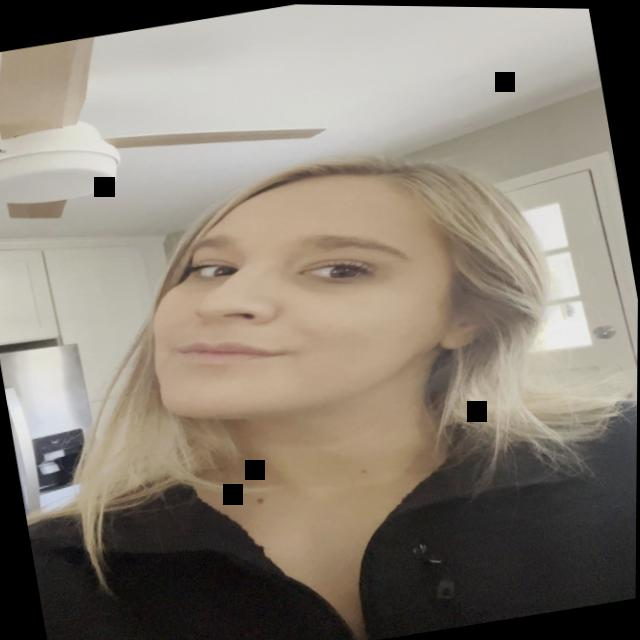NO-Mask: (75, 143, 542, 498)
